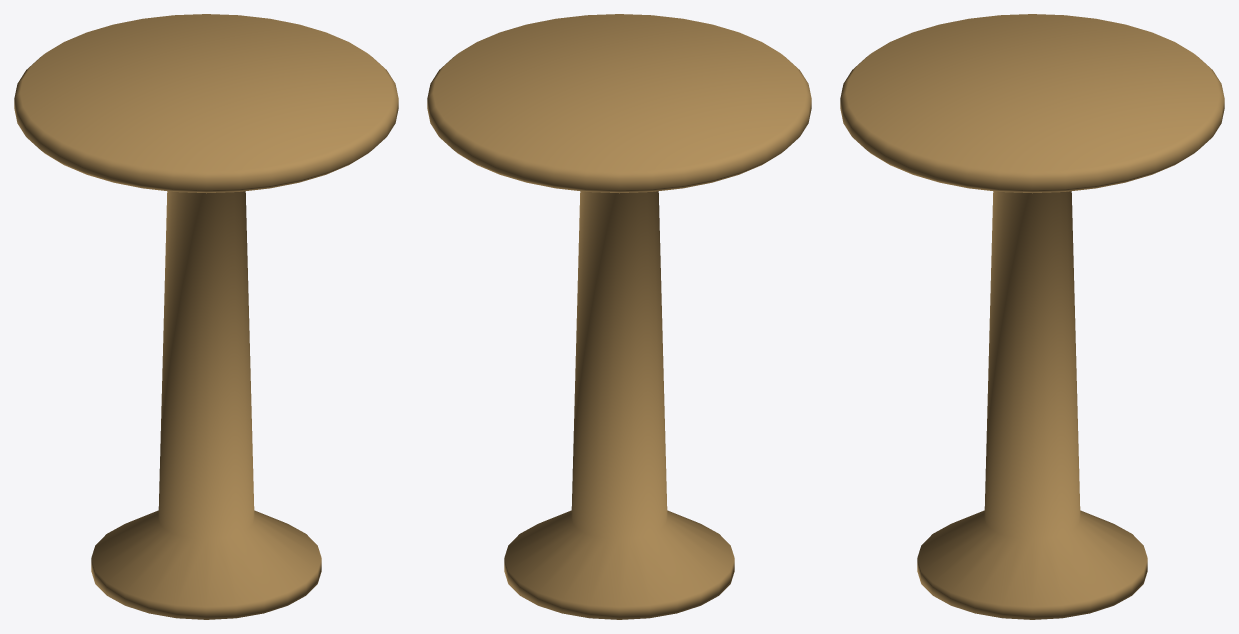
File: i_table_14.glb
The picture shows the model from 3 angles, left to right: view 1: azimuth 30°, elevation 25°; view 2: azimuth 150°, elevation 25°; view 3: azimuth 270°, elevation 25°; orthographic projection.
Visible parts, largest first — view 1: o, o.001; view 2: o, o.001; view 3: o, o.001.
Boxes of the visible parts, bbox=[...] form: o: bbox=[14, 14, 398, 193]; o.001: bbox=[91, 191, 321, 619]; o: bbox=[427, 14, 811, 193]; o.001: bbox=[504, 191, 734, 619]; o: bbox=[840, 14, 1224, 193]; o.001: bbox=[917, 191, 1147, 619].
Size of the model in its own units: 0.4 by 0.55 by 0.4.
